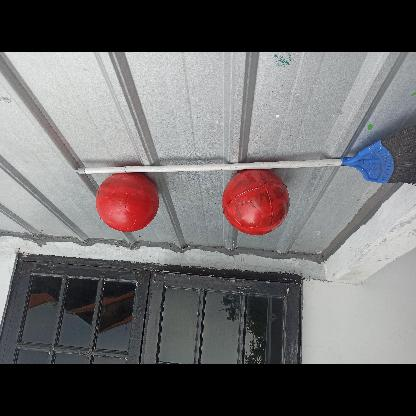red_ball: (223, 171, 289, 237), (95, 171, 159, 235)
